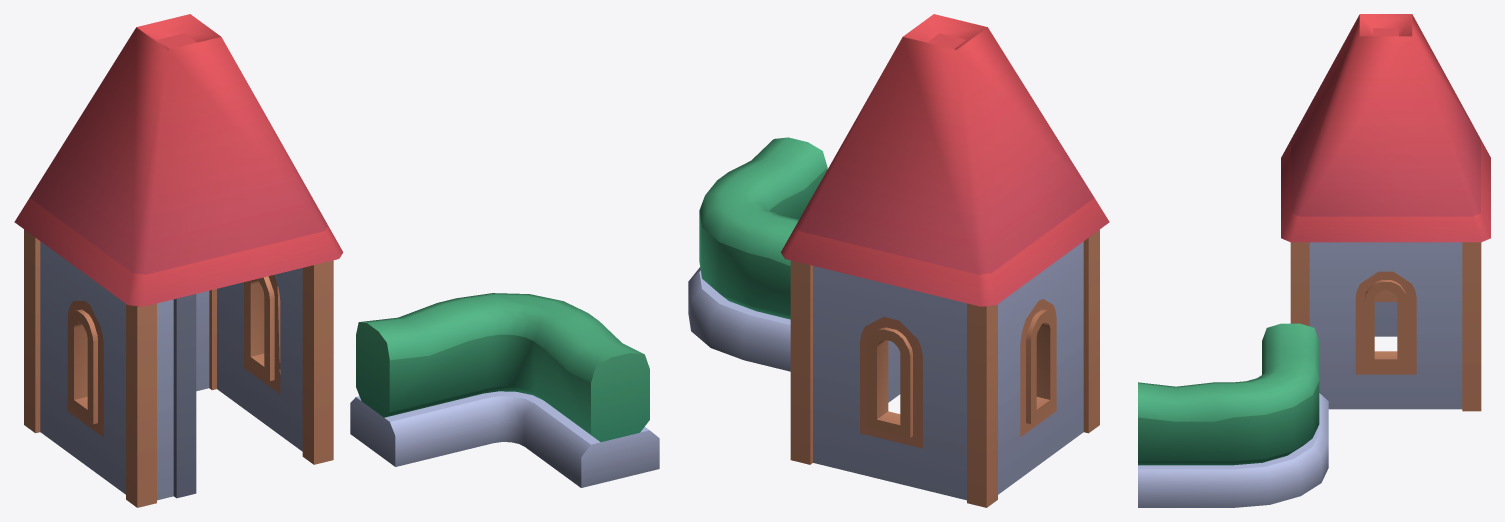
The model's file is elf_b.glb.
3 views of the same model, side by side, from view 1: azimuth 30°, elevation 25°; view 2: azimuth 150°, elevation 25°; view 3: azimuth 270°, elevation 25° (orthographic). The views are drawn at different scales.
Visible parts, largest first — view 1: wall-arch; view 2: wall-arch; view 3: wall-arch.
Part boxes in pixels (box(x1,y1,x2,y2)): wall-arch: box(14, 14, 659, 507); wall-arch: box(688, 14, 1109, 507); wall-arch: box(1138, 14, 1490, 507).
Size of the model in its own units: 2.25 by 2 by 1.85.
Materials: 1 (1 with a texture image).
